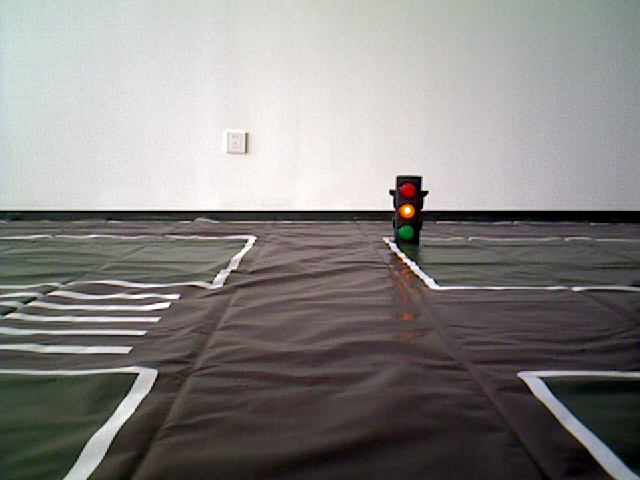yellow: (391, 170, 423, 253)
